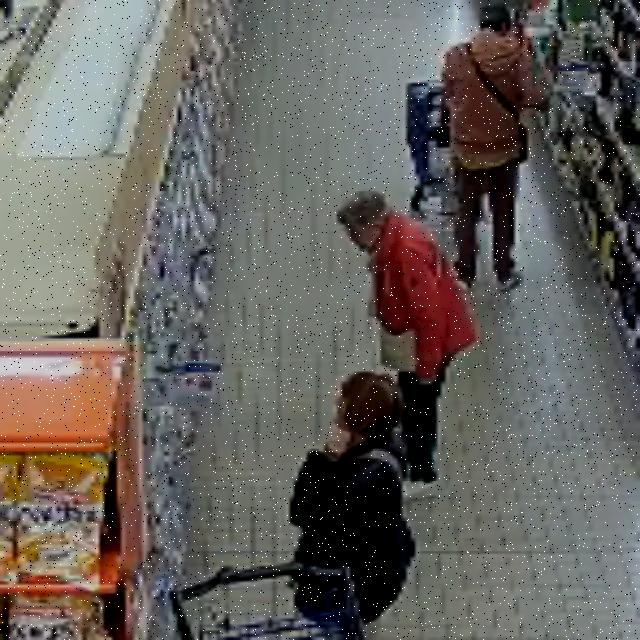bags: (466, 44, 529, 163), (380, 325, 416, 372)
hands: (325, 425, 350, 460), (420, 379, 438, 386)
person: (338, 192, 477, 498), (290, 372, 414, 639), (443, 5, 551, 291)
